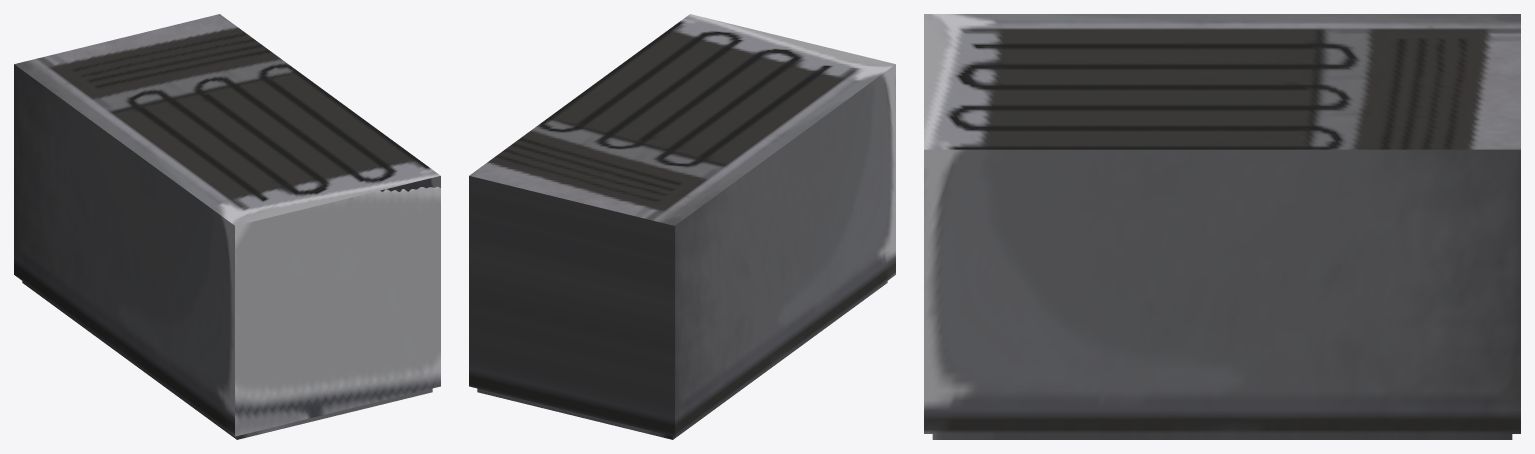
The model's file is pz_fridge_steel.obj.
3 views of the same model, side by side, from view 1: azimuth 30°, elevation 25°; view 2: azimuth 150°, elevation 25°; view 3: azimuth 270°, elevation 25° (orthographic). The views are drawn at different scales.
Size of the model in its own units: 0.94 by 0.95 by 1.75.
Materials: 1 (1 with a texture image).
